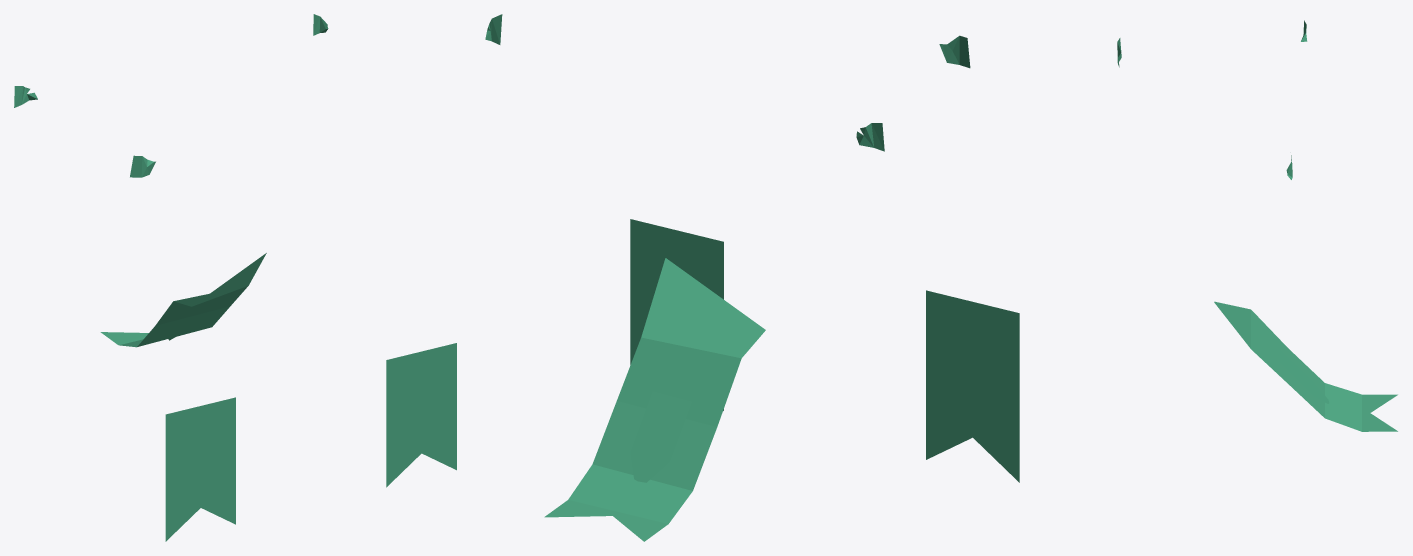
File: castle-lod1.glb
The picture shows the model from 3 angles, left to right: view 1: azimuth 30°, elevation 25°; view 2: azimuth 150°, elevation 25°; view 3: azimuth 270°, elevation 25°; orthographic projection. The views are drawn at different scales.
Parts seen in each view (by area): view 1: BannerTeam; view 2: BannerTeam; view 3: BannerTeam.
Part boxes in pixels (<box>): BannerTeam: <box>14,14,456,541</box>; BannerTeam: <box>485,14,1019,541</box>; BannerTeam: <box>1117,20,1397,431</box>.
Size of what is drawn, in the model's own units: 5.2 by 5.88 by 4.94.
